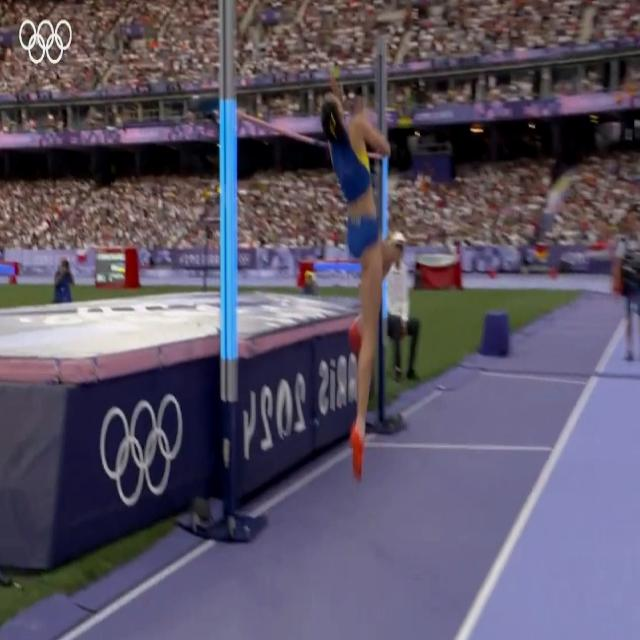jump: (320, 84, 392, 480)
